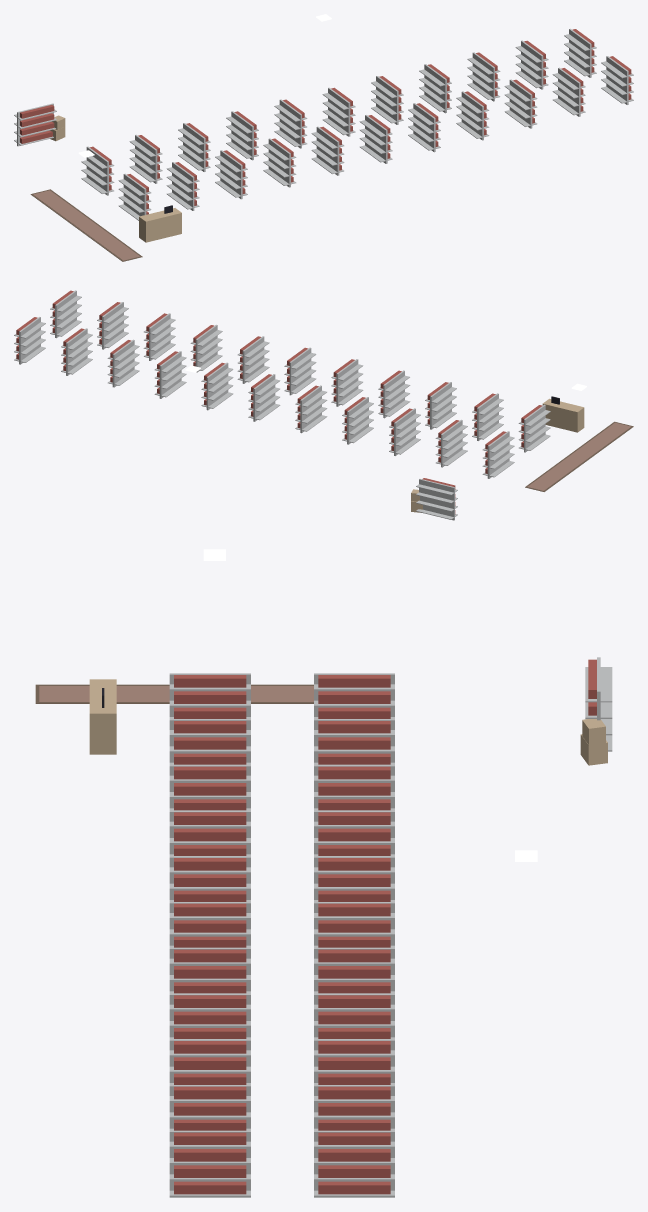
Rendered from fine-s0.glb.
The picture shows the model from 3 angles, top to bottom: view 1: azimuth 30°, elevation 25°; view 2: azimuth 150°, elevation 25°; view 3: azimuth 270°, elevation 25°; orthographic projection. The views are drawn at different scales.
Parts seen in each view (by area): view 1: soft-s0, shelving.000, shop-counter.000, shelf.015, shelf.009, shelf.011, shelf.014, shelf.017, shelf.012, shelf.019, shelf.005, shelf.007 (+13 smaller); view 2: soft-s0, shelving.000, shop-counter.000, shelf.009, shelf.000, shelf.012, shelf.005, shelf.011, shelf.014, shelf.006, shelf.013, shelf.008 (+13 smaller); view 3: shelf.021, shelf.020, shelf.005, shelf.013, shelf.004, shelf.012, shelf.001, shelf.003, shelf.007, shelf.009, shelf.011, shelf.015 (+14 smaller).
Part boxes in pixels (x1,y1,x2,y2): soft-s0: [30, 189, 142, 261]; shelving.000: [14, 103, 56, 146]; shop-counter.000: [139, 205, 181, 242]; shelf.015: [456, 91, 489, 140]; shelf.009: [311, 126, 344, 175]; shelf.011: [359, 115, 392, 163]; shelf.014: [419, 64, 451, 113]; shelf.017: [504, 79, 537, 128]; shelf.012: [371, 76, 403, 124]; shelf.019: [552, 67, 585, 116]; shelf.005: [215, 150, 247, 199]; shelf.007: [263, 138, 296, 187]; soft-s0: [525, 421, 633, 491]; shelving.000: [416, 478, 457, 520]; shop-counter.000: [542, 396, 584, 432]; shelf.009: [331, 359, 363, 406]; shelf.000: [482, 431, 514, 478]; shelf.012: [201, 362, 233, 410]; shelf.005: [425, 382, 456, 429]; shelf.011: [284, 347, 316, 395]; shelf.014: [154, 351, 186, 398]; shelf.006: [342, 397, 373, 444]; shelf.013: [237, 336, 269, 383]; shelf.008: [295, 385, 327, 433]; shelf.021: [169, 1130, 250, 1197]; shelf.020: [314, 1130, 394, 1197]; shelf.005: [169, 764, 250, 810]; shelf.013: [169, 947, 250, 993]; shelf.004: [314, 764, 394, 810]; shelf.012: [314, 947, 394, 993]; shelf.001: [169, 673, 250, 718]; shelf.003: [169, 719, 250, 764]; shelf.007: [169, 810, 250, 855]; shelf.009: [169, 856, 250, 901]; shelf.011: [169, 902, 250, 947]; shelf.015: [169, 993, 250, 1038].
Bounding box in the file's own units: 27.15 × 3.44 × 12.79.
